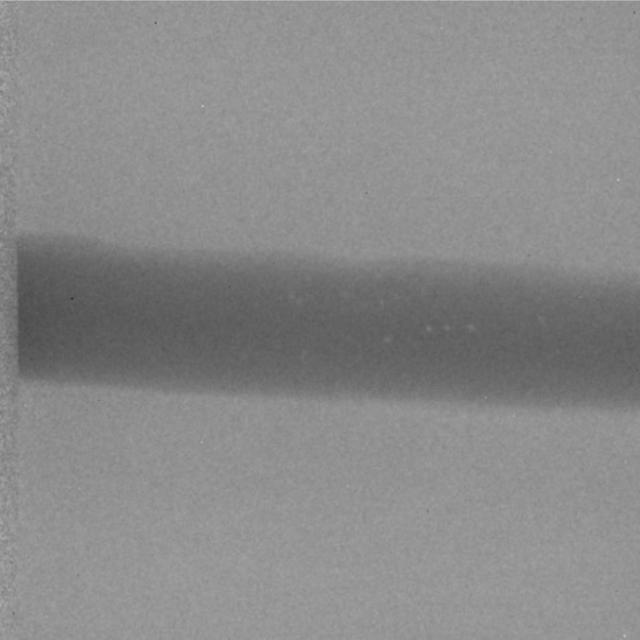air-hole: (467, 323, 475, 331), (443, 324, 451, 332), (384, 335, 391, 344), (538, 312, 544, 322), (301, 348, 307, 358), (426, 325, 432, 333), (340, 290, 346, 298), (298, 299, 304, 306), (380, 301, 384, 311), (289, 292, 294, 299), (484, 395, 488, 399)
